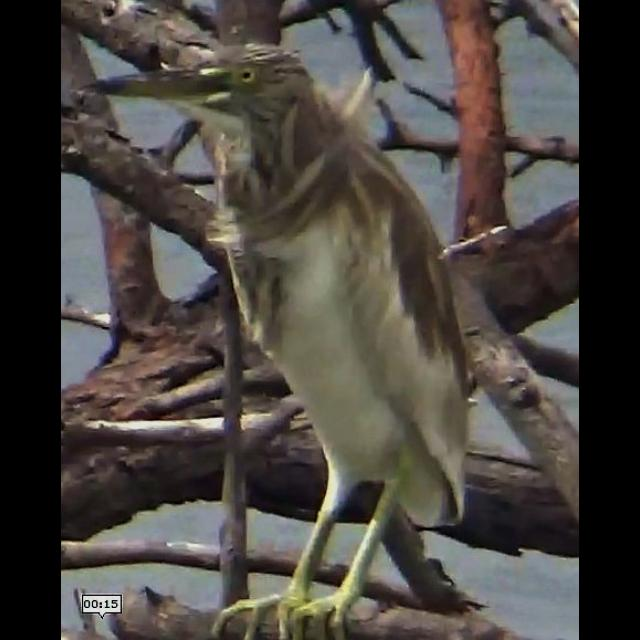heron: (88, 33, 500, 639)
